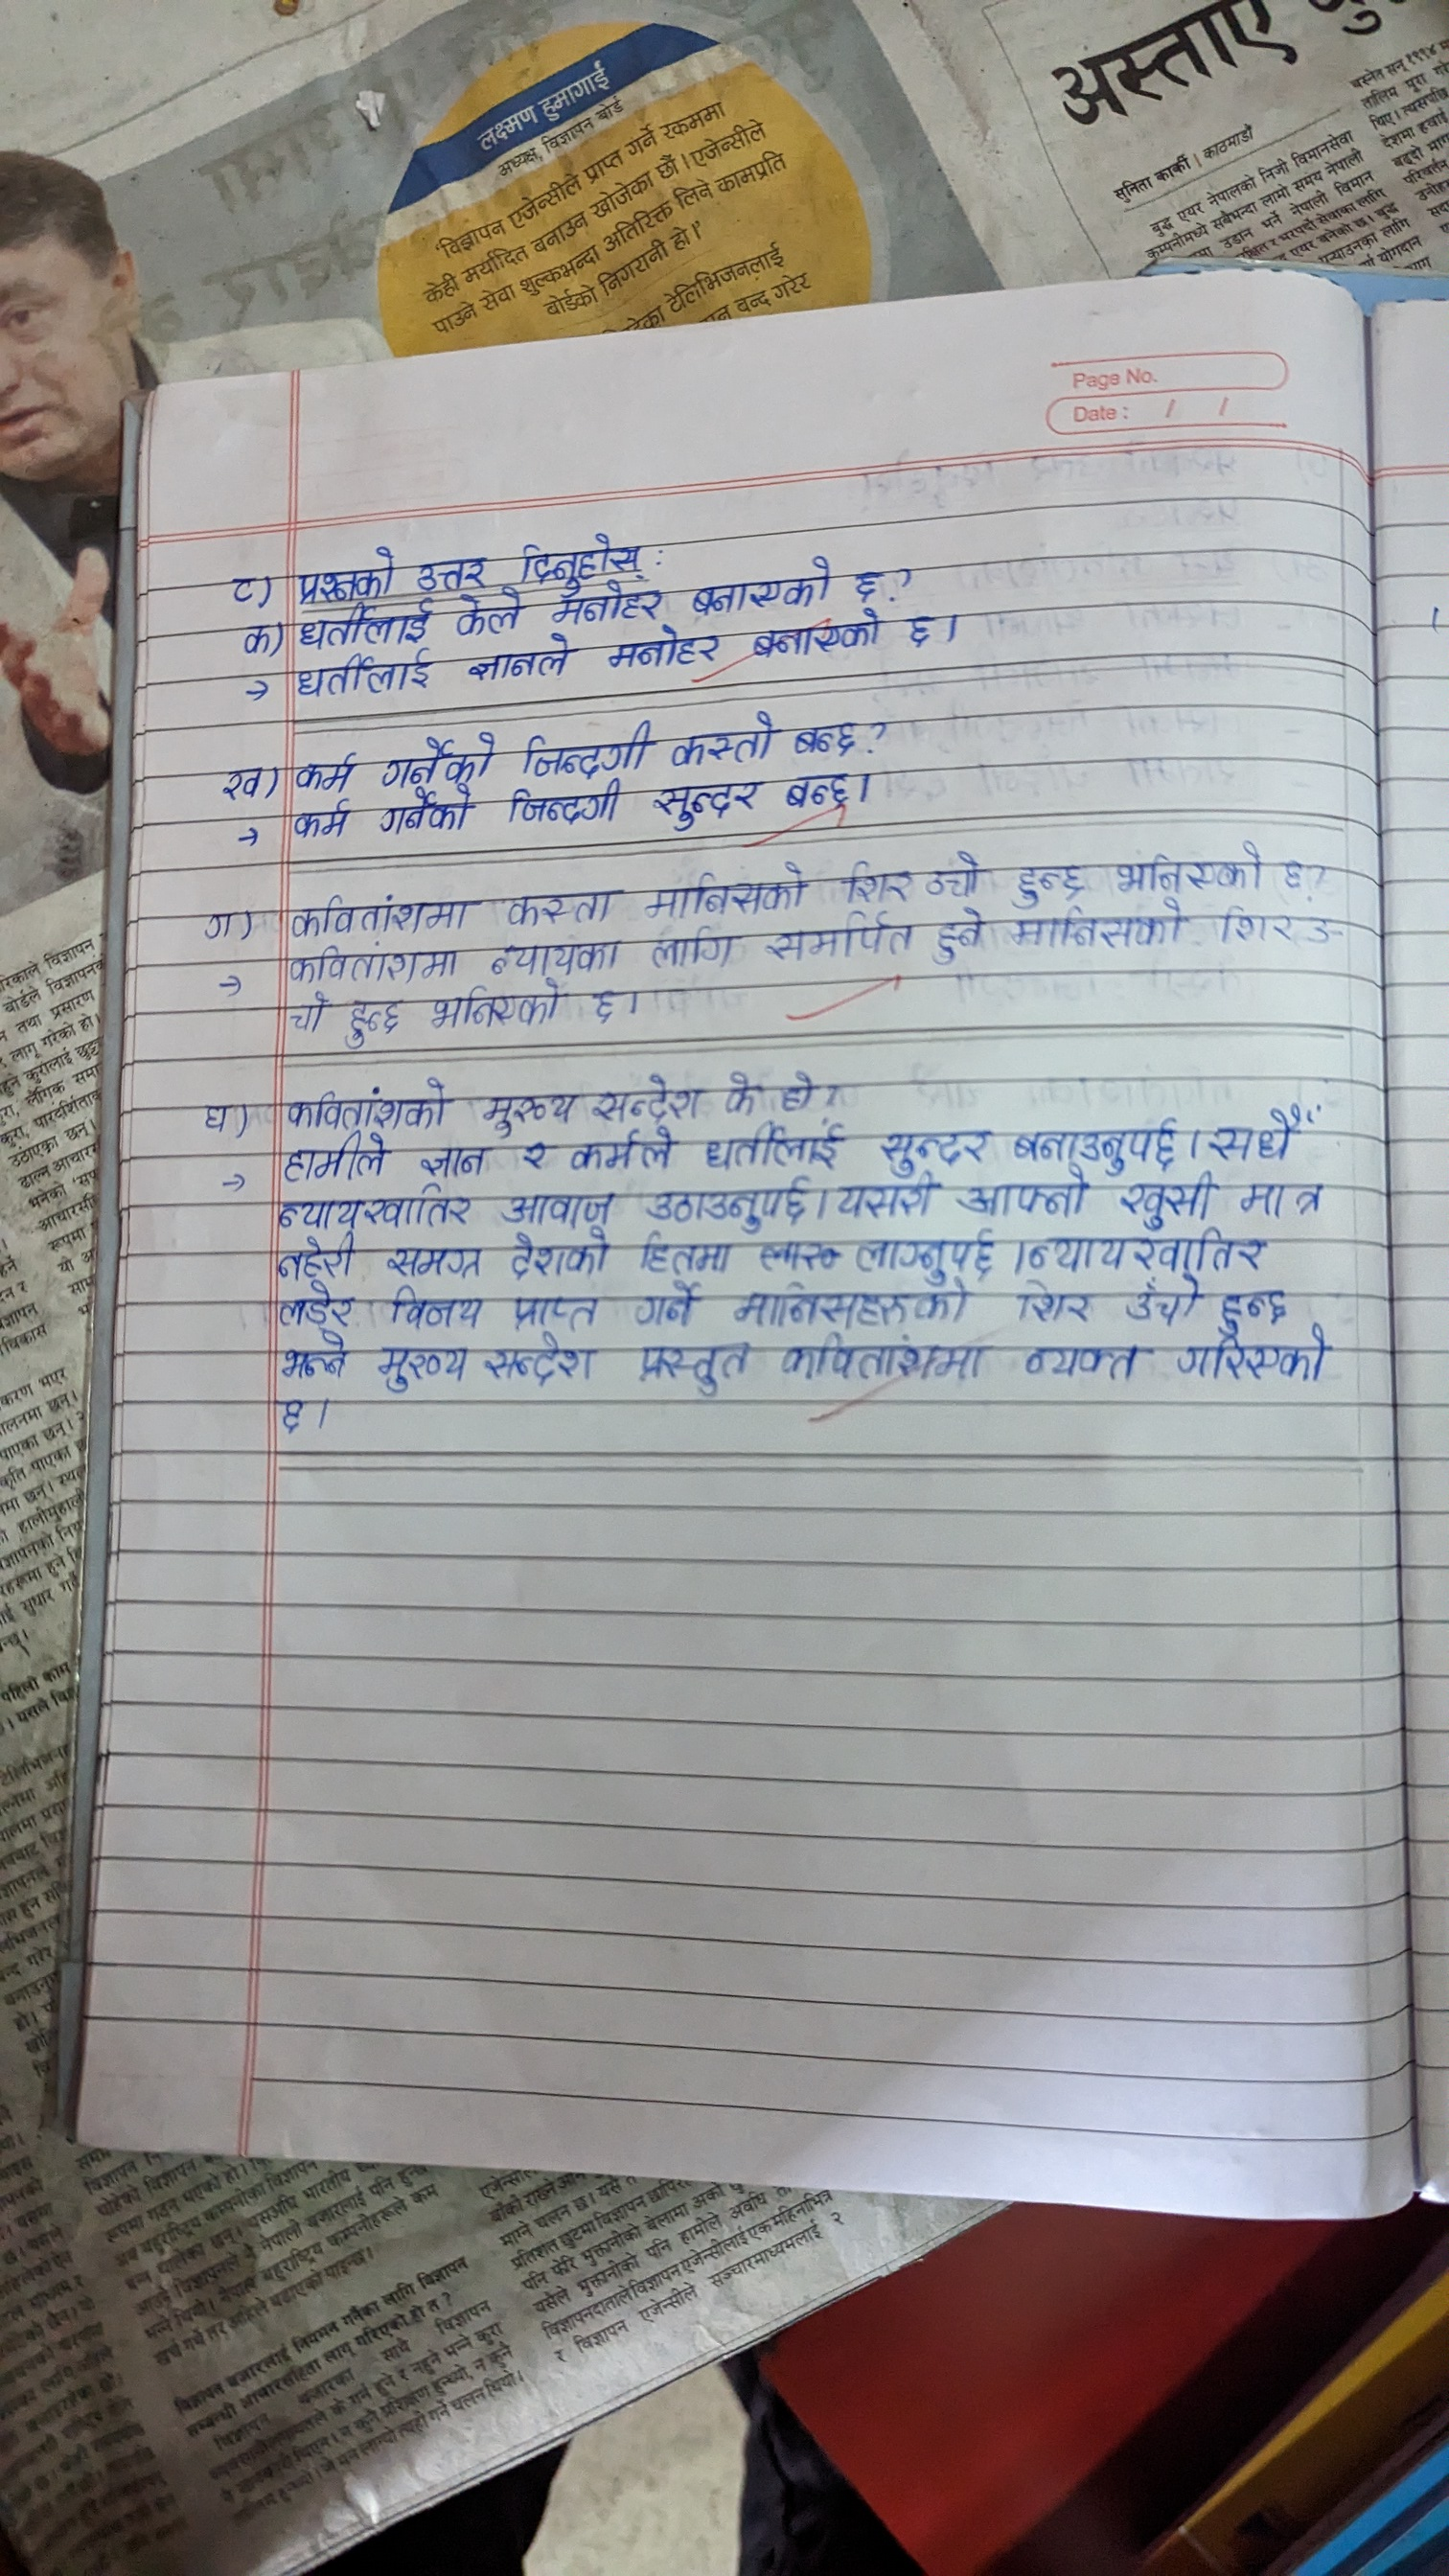text: (768, 1330, 991, 1387), (729, 1281, 970, 1327), (1021, 1228, 1277, 1270), (640, 860, 810, 918), (1168, 1330, 1332, 1391), (280, 1076, 456, 1131), (1010, 906, 1192, 957), (1008, 1113, 1177, 1168), (276, 1185, 478, 1228), (281, 892, 472, 934), (637, 1178, 812, 1224), (681, 559, 835, 610), (423, 982, 566, 1037), (1109, 842, 1261, 893), (513, 720, 653, 775), (633, 1334, 754, 1398), (745, 612, 888, 665), (1203, 1099, 1322, 1161), (281, 939, 458, 980), (295, 649, 435, 701), (855, 1228, 998, 1277), (702, 1125, 842, 1175), (515, 534, 656, 582), (502, 778, 630, 832), (1019, 1336, 1146, 1387), (665, 708, 777, 766), (957, 1171, 1090, 1219), (370, 729, 492, 780), (764, 922, 918, 962), (295, 602, 437, 644), (290, 543, 402, 596), (485, 1332, 596, 1385), (278, 1131, 391, 1182), (603, 626, 724, 674), (584, 1074, 704, 1122), (504, 1226, 610, 1277), (462, 635, 575, 683), (1115, 1171, 1219, 1223), (872, 1125, 993, 1169), (646, 784, 764, 826), (375, 786, 476, 835), (375, 1339, 472, 1391), (502, 883, 619, 925), (568, 1132, 681, 1175), (835, 1177, 939, 1223), (384, 1283, 483, 1330), (497, 1185, 617, 1224), (646, 924, 745, 970), (271, 1231, 363, 1279), (386, 1235, 485, 1279), (487, 941, 623, 973), (833, 851, 916, 902), (269, 1330, 357, 1378), (552, 584, 665, 621), (478, 1088, 577, 1131), (633, 1230, 731, 1272), (1008, 1279, 1097, 1325), (1007, 855, 1092, 902), (931, 906, 991, 970), (338, 993, 405, 1049), (508, 1290, 605, 1329), (272, 1281, 357, 1325), (1214, 1283, 1295, 1329), (1123, 1274, 1198, 1323), (786, 713, 863, 759), (1240, 1180, 1336, 1215), (784, 771, 860, 814), (633, 1279, 701, 1327), (451, 591, 525, 633), (1215, 902, 1290, 943), (290, 750, 361, 793), (924, 849, 982, 899), (414, 550, 487, 589), (281, 985, 331, 1042), (292, 798, 354, 842), (416, 1143, 492, 1178), (195, 1090, 244, 1143), (214, 757, 269, 800), (773, 1065, 819, 1113), (198, 897, 239, 950), (720, 1069, 761, 1116), (278, 1392, 315, 1442), (902, 605, 934, 658), (219, 571, 262, 609), (1276, 849, 1311, 892), (515, 1136, 552, 1175), (589, 985, 621, 1026), (1306, 906, 1332, 954), (241, 623, 274, 660), (853, 561, 883, 602)
